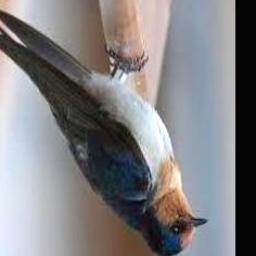Swallow: (0, 0, 208, 256)
